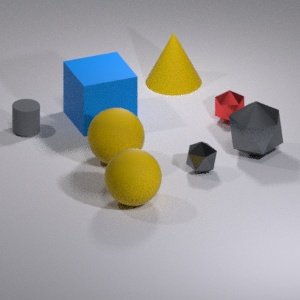lapphuong: (57, 47, 142, 139)
lucgiac: (229, 96, 288, 163), (179, 139, 218, 175), (211, 85, 244, 123)
non: (146, 29, 202, 100)
tron: (100, 147, 164, 212), (86, 107, 147, 165)
tru: (6, 95, 42, 141)
